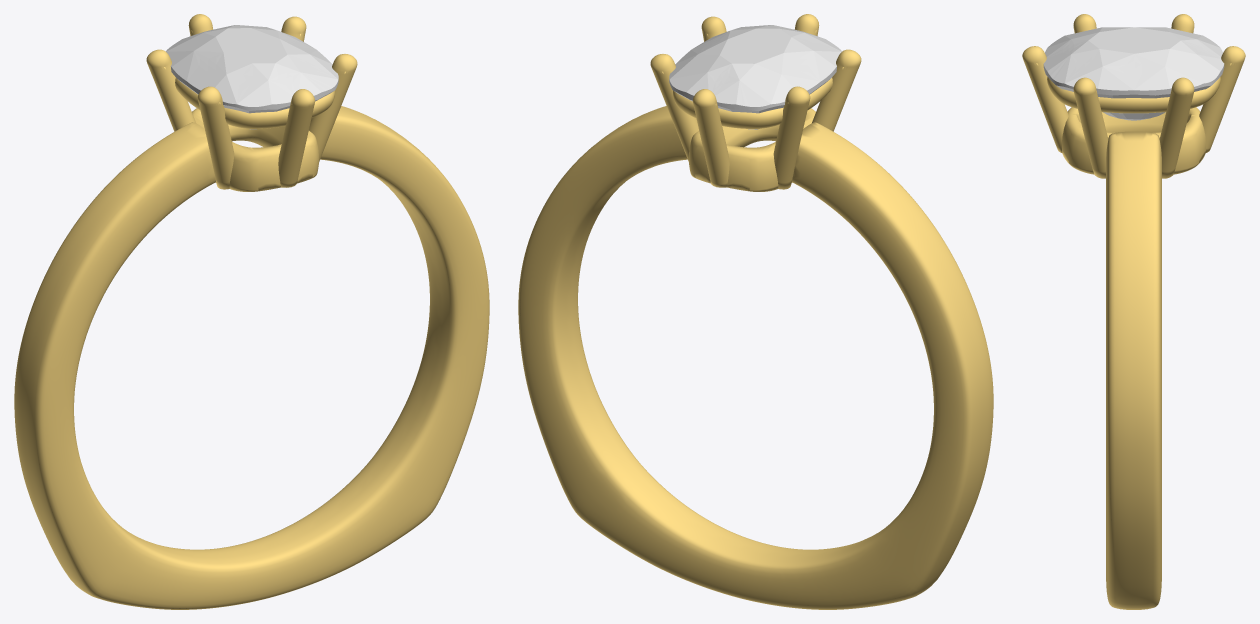
Rendered from diamond-cushion-yellowgold-6prong-europeanshank-nosidestones.glb.
3 views of the same model, side by side, from view 1: azimuth 30°, elevation 25°; view 2: azimuth 150°, elevation 25°; view 3: azimuth 270°, elevation 25° (orthographic). The views are drawn at different scales.
Parts seen in each view (by area): view 1: metal.003, stone; view 2: metal.003, stone; view 3: metal.003, stone.
Part boxes in pixels (x1,y1,x2,y2): metal.003: (14,14,489,609); stone: (166,25,338,129); metal.003: (518,14,993,609); stone: (669,25,841,129); metal.003: (1022,14,1245,609); stone: (1043,27,1224,120).
Size of the model in its own units: 20.1 by 23.04 by 8.8.
